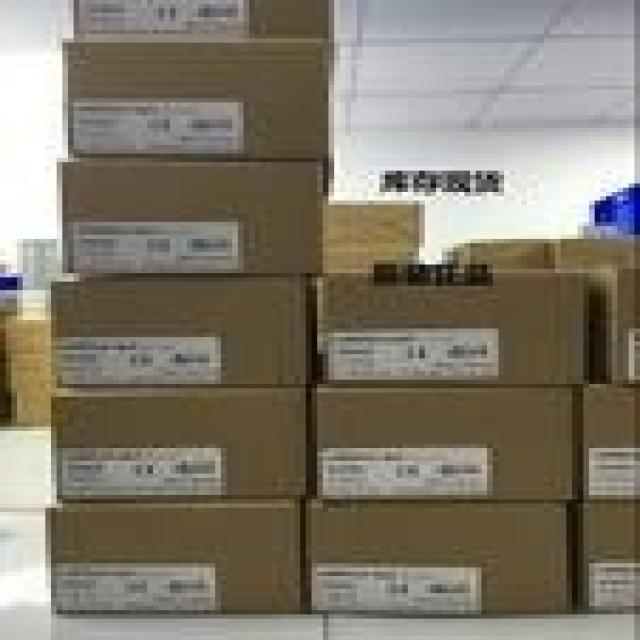box: (64, 37, 338, 161), (309, 383, 579, 501), (63, 156, 323, 276), (315, 274, 588, 387), (300, 497, 577, 606), (51, 382, 307, 499), (48, 495, 307, 610), (53, 274, 312, 383), (1, 238, 61, 425), (75, 2, 338, 39), (318, 202, 421, 269), (575, 499, 634, 610), (581, 380, 634, 495), (583, 269, 634, 381), (438, 238, 557, 273), (553, 235, 634, 269), (587, 183, 634, 235)
